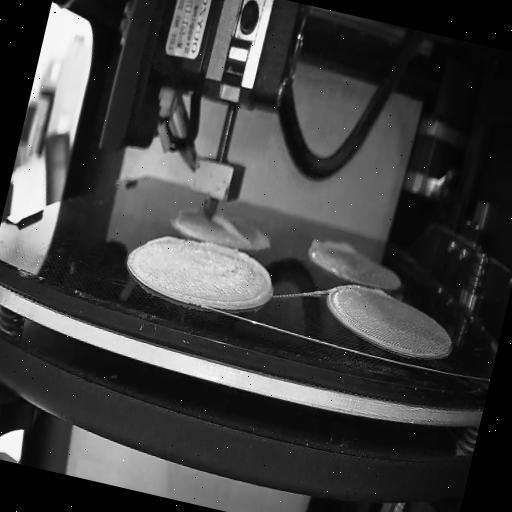over_extrusion: (188, 241, 278, 321), (206, 212, 256, 244), (306, 234, 356, 262), (144, 226, 186, 256), (362, 285, 393, 302)
